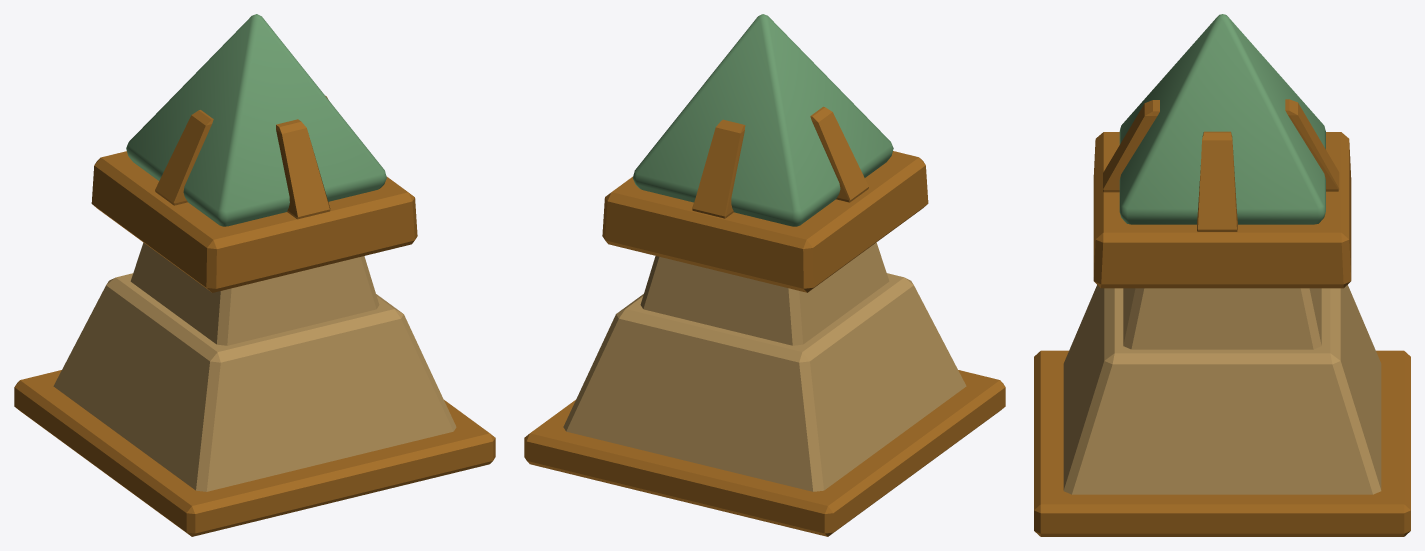
The model's file is fbx_Statue_01.fbx.
3 renders of one model, left to right at view 1: azimuth 30°, elevation 25°; view 2: azimuth 150°, elevation 25°; view 3: azimuth 270°, elevation 25°, orthographic. The views are drawn at different scales.
Parts seen in each view (by area): view 1: Cube; view 2: Cube; view 3: Cube.
Boxes of the visible parts, bbox=[...] form: Cube: bbox=[14, 14, 495, 536]; Cube: bbox=[524, 14, 1005, 536]; Cube: bbox=[1034, 14, 1410, 536].
Bounding box in the file's own units: 75.47 × 98.75 × 75.47.
